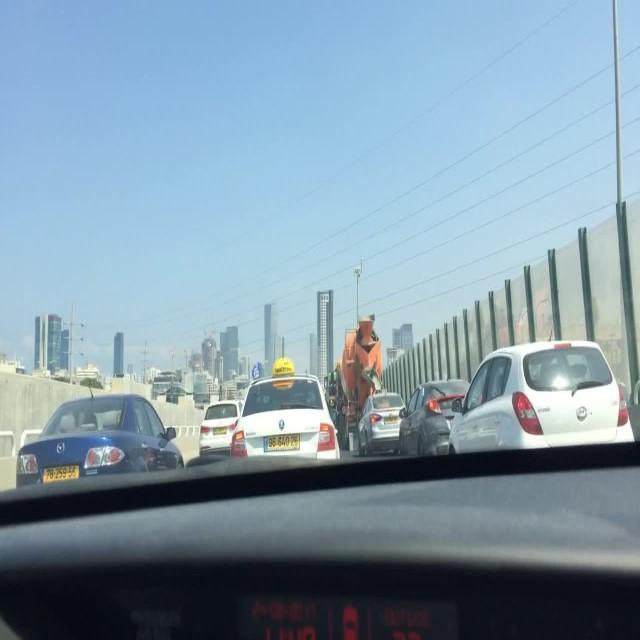normal: (9, 370, 640, 502)
